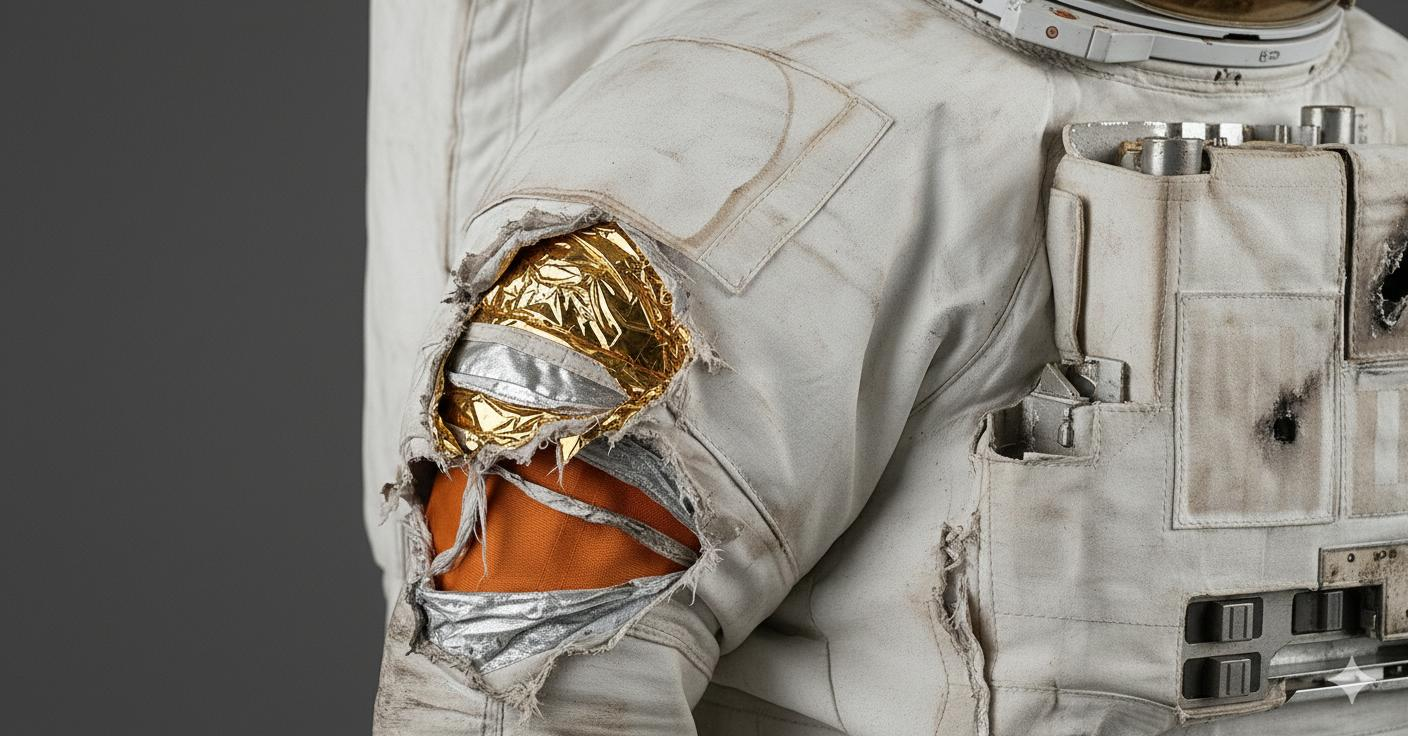tear: (373, 194, 727, 709)
